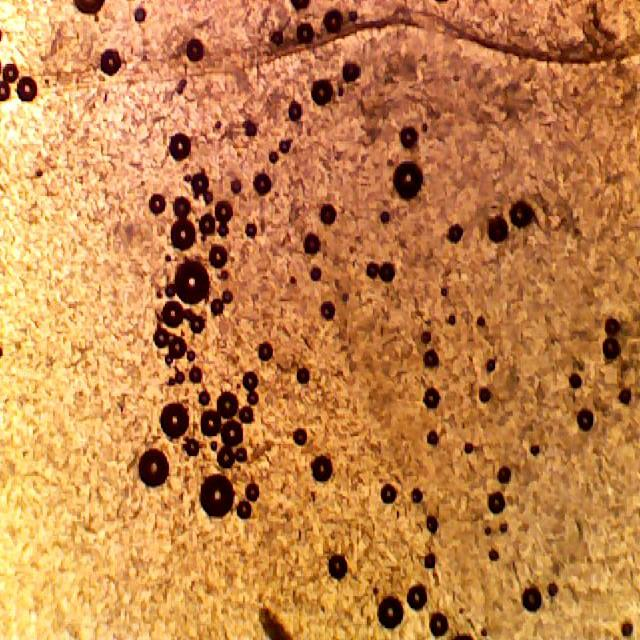bead: (173, 257, 211, 306), (198, 472, 233, 520), (390, 157, 426, 202), (136, 446, 168, 486), (378, 593, 403, 628), (167, 132, 192, 163)
